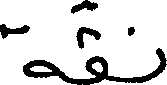ة: (0, 22, 56, 78)
ق: (74, 22, 109, 83)
ن: (125, 24, 165, 77)
